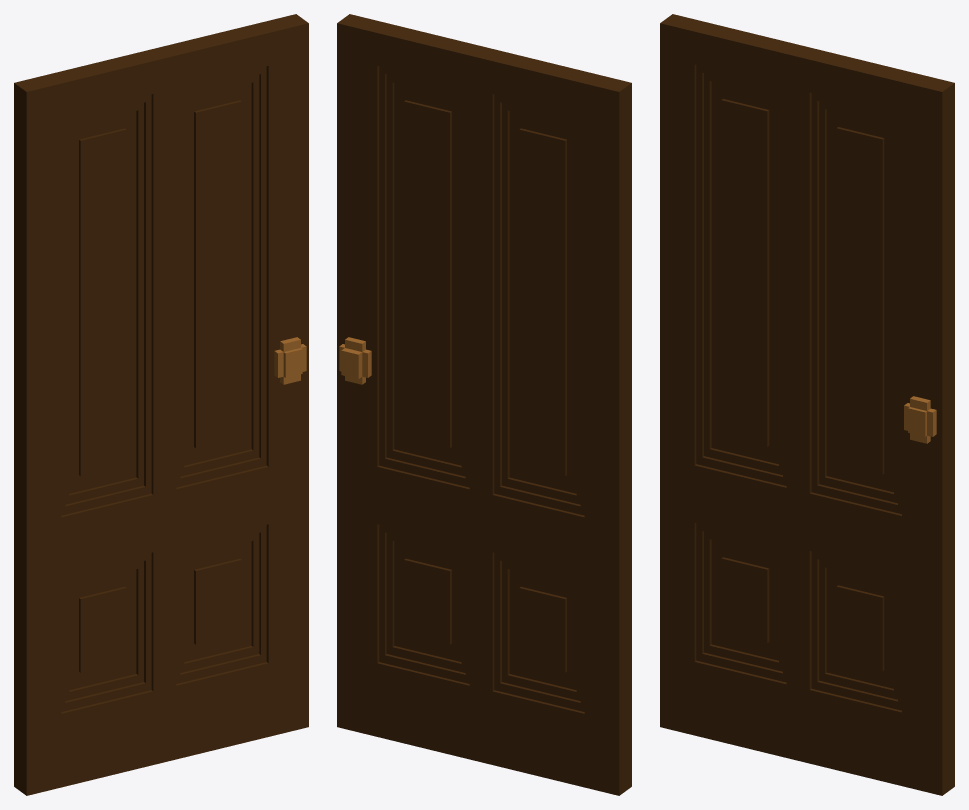
File: doorRecentered.fbx
3 renders of one model, left to right at view 1: azimuth 30°, elevation 25°; view 2: azimuth 150°, elevation 25°; view 3: azimuth 330°, elevation 25°, orthographic.
Visible parts, largest first — view 1: Porte; view 2: Porte; view 3: Porte.
Part boxes in pixels (x1,y1,x2,y2): Porte: (14,14,308,795); Porte: (337,14,631,795); Porte: (660,14,954,795).
Bounding box in the file's own units: 83.9 × 200 × 13.
Materials: 1 (1 with a texture image).
